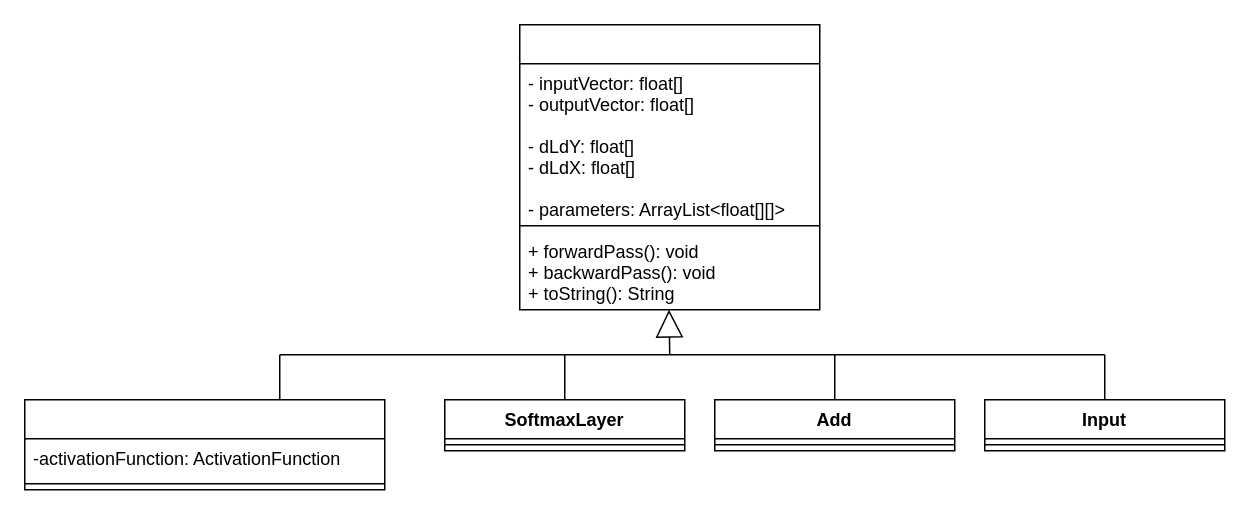
Image size: 1250x515. Some labels were removed from this diagram. The shapes that lost their labels are listed below. From the top down, each one's box as (x1, y1, x2, y2) in pixels, then its label:
(518, 23, 820, 310): Layer (Abstract class)
(23, 398, 385, 490): Dense
